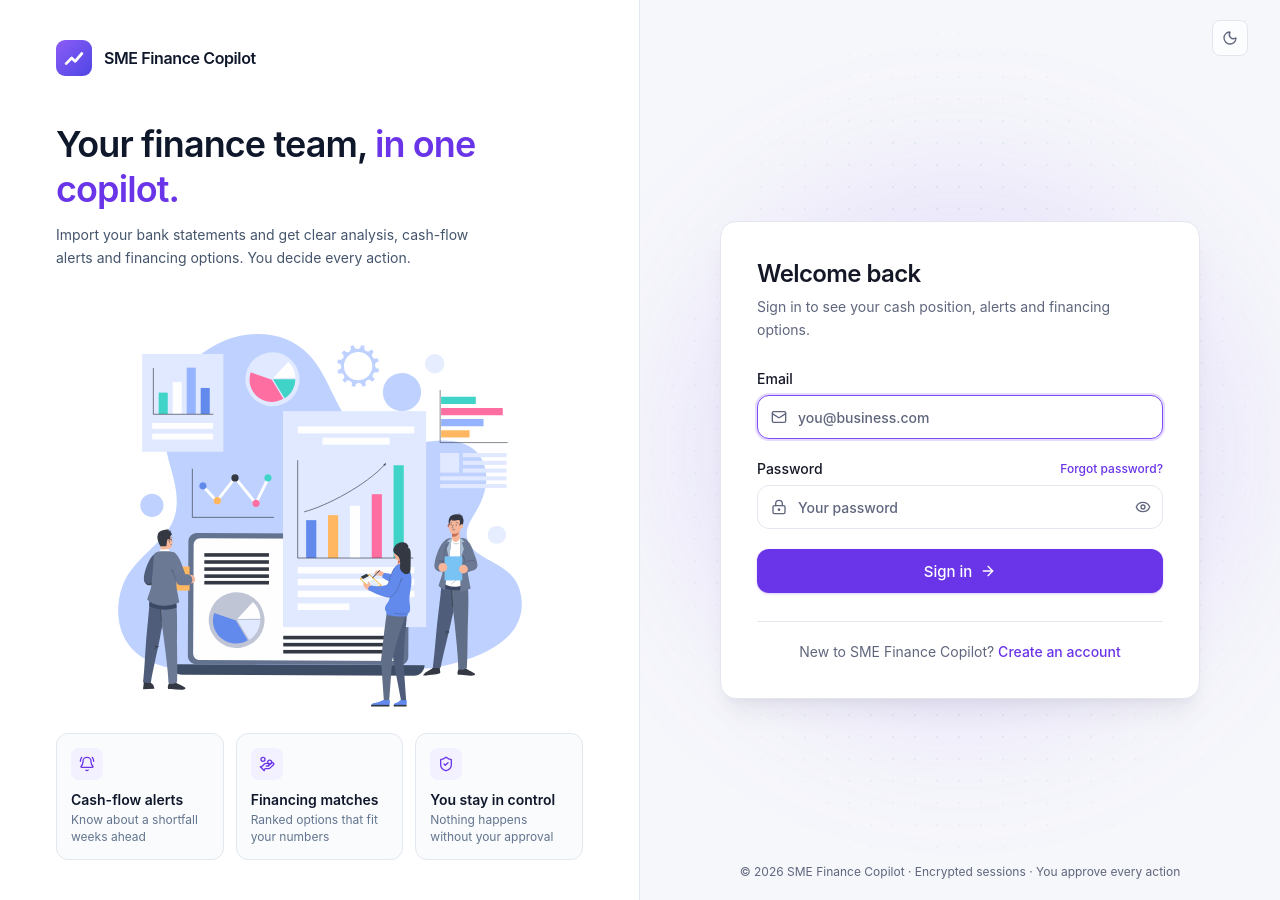
Test: sign-in page › shows the server's error
Type "owner@lotusbakery.example" into the field labelled "Email" at (960, 417), box left=757, top=395, right=1163, bottom=439
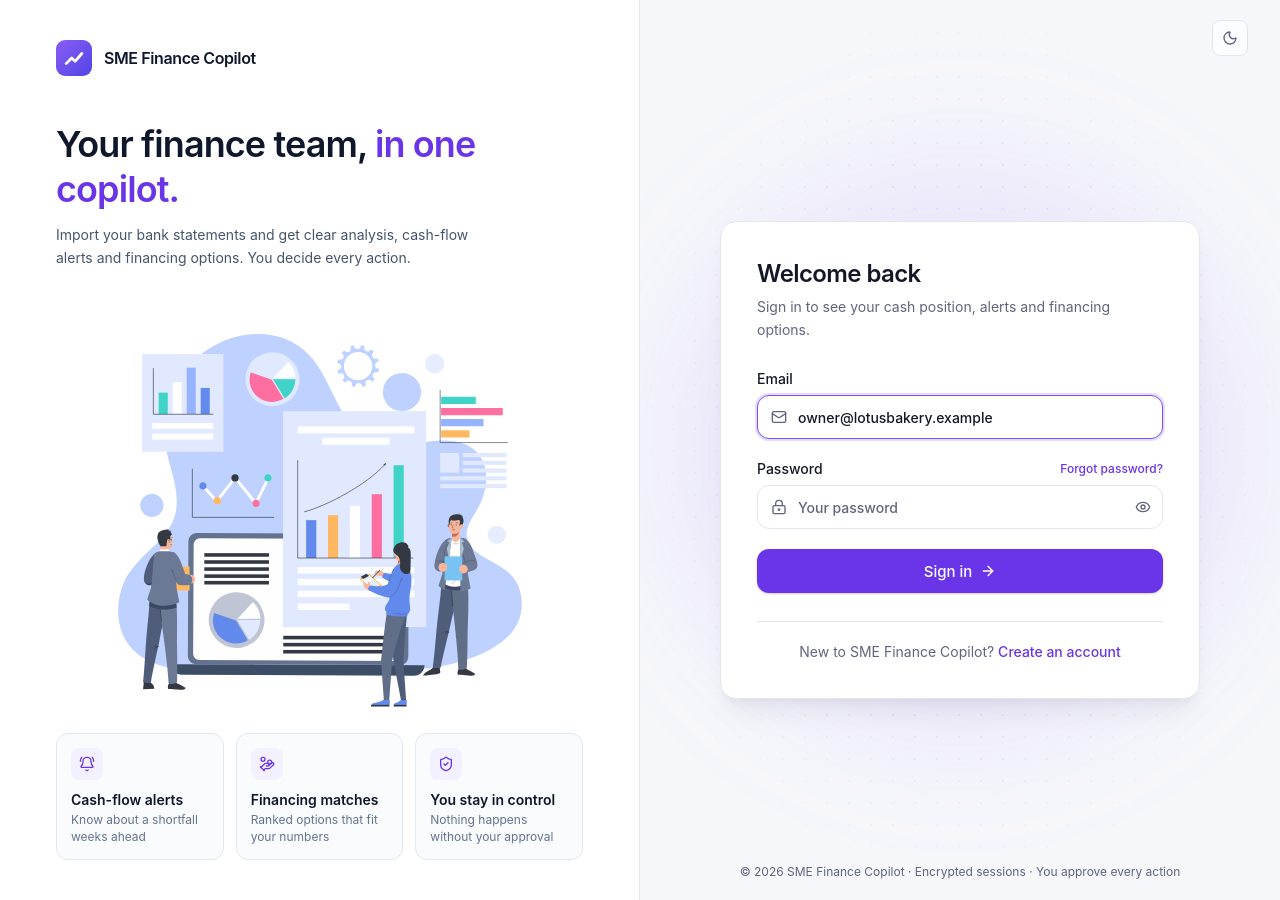
Type "wrong-password" into the password field labelled "Password" at (960, 507), box left=757, top=485, right=1163, bottom=529
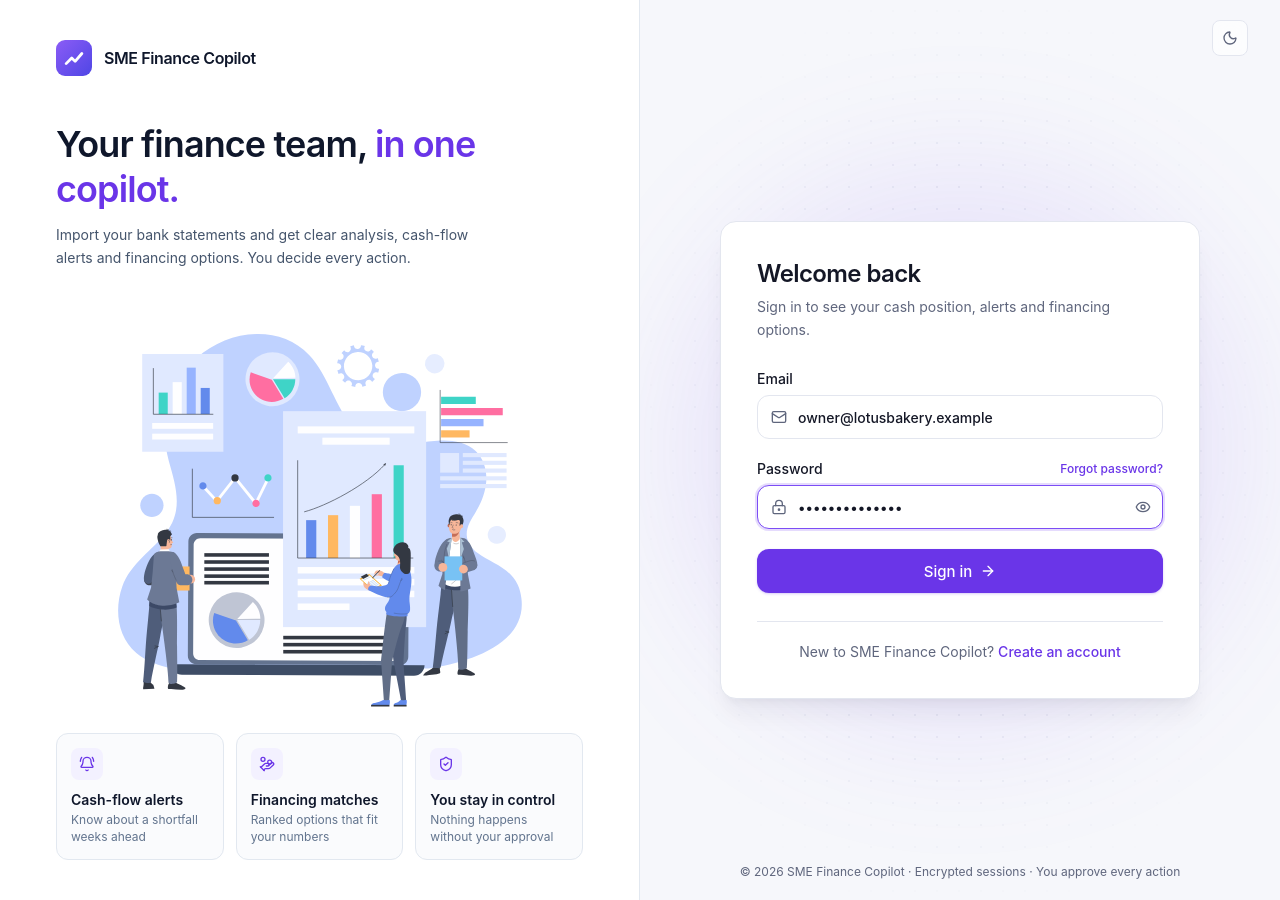
Click the button "Sign in" at (960, 571), box left=757, top=549, right=1163, bottom=593
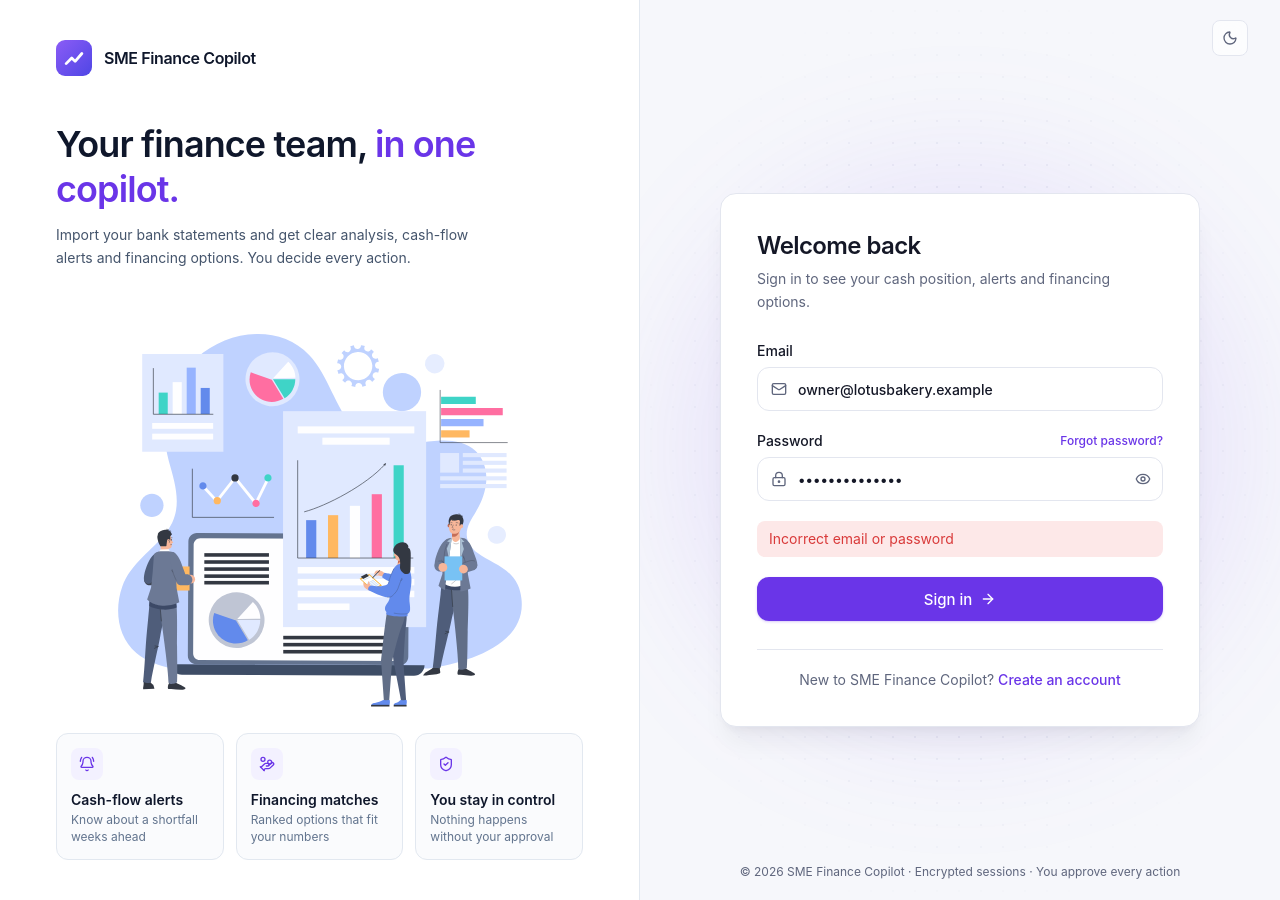
Expected: the message reads "Incorrect email or password", left=769, top=530, right=954, bottom=547
